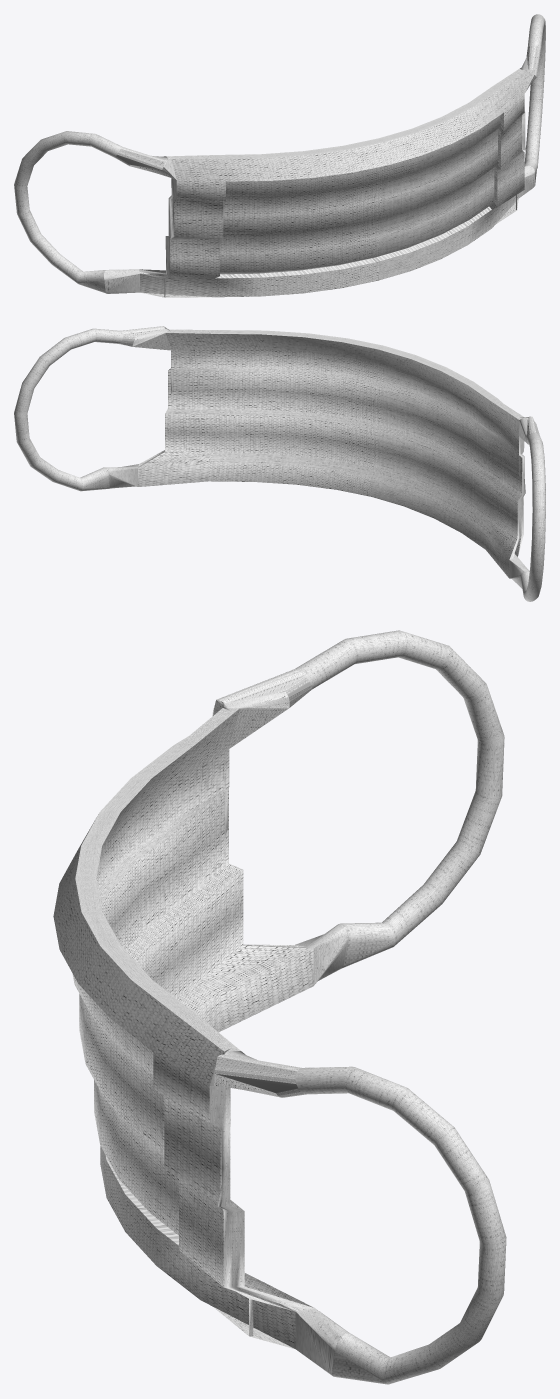
The model's file is DentalMask.FBX.
3 views of the same model, one above another, from view 1: azimuth 30°, elevation 25°; view 2: azimuth 150°, elevation 25°; view 3: azimuth 270°, elevation 25° (orthographic). The views are drawn at different scales.
Parts seen in each view (by area): view 1: Cylinder002; view 2: Cylinder002; view 3: Cylinder002.
Part boxes in pixels (bbox=[...]): Cylinder002: bbox=[14, 14, 545, 297]; Cylinder002: bbox=[14, 326, 545, 601]; Cylinder002: bbox=[53, 630, 506, 1384].
Bounding box in the file's own units: 211 × 61.25 × 78.28.
1 material, 1 textured.
